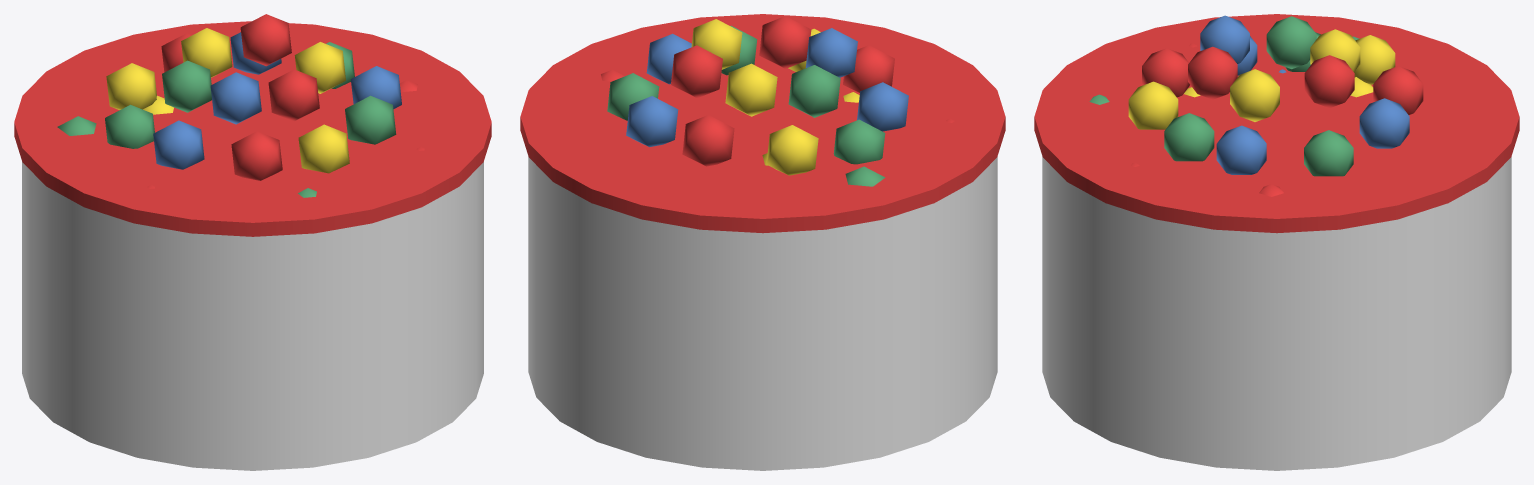
The model's file is nintendo_plush_bin.glb.
3 renders of one model, left to right at view 1: azimuth 30°, elevation 25°; view 2: azimuth 150°, elevation 25°; view 3: azimuth 270°, elevation 25°, orthographic.
Visible parts, largest first — view 1: nintendo_plush_bin; view 2: nintendo_plush_bin; view 3: nintendo_plush_bin.
Part boxes in pixels (<box>): nintendo_plush_bin: <box>14,14,491,470</box>; nintendo_plush_bin: <box>520,14,1005,470</box>; nintendo_plush_bin: <box>1034,14,1519,470</box>.
Size of the model in its own units: 1.24 by 0.9479 by 1.24.
